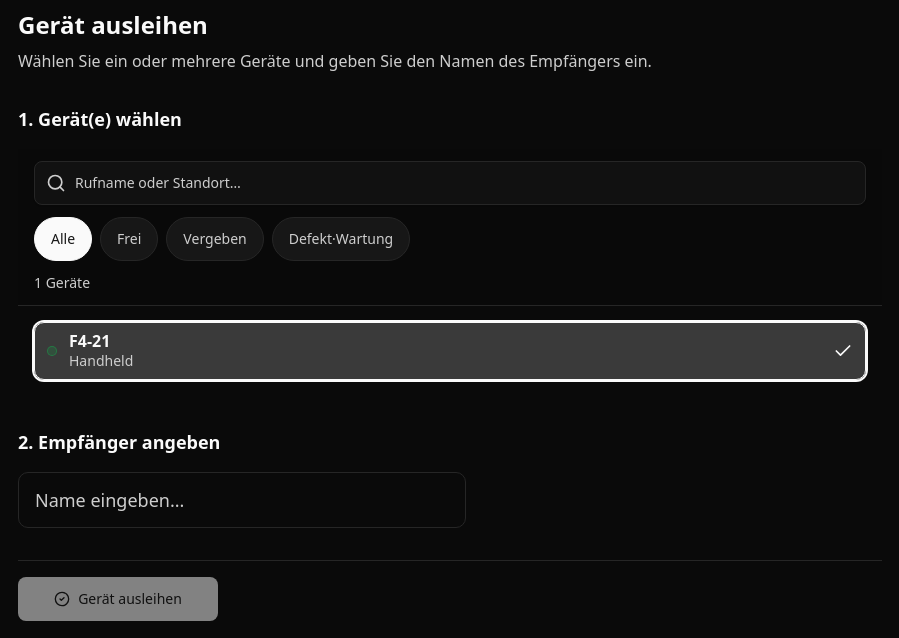
LoanPage Integration Tests › Button States › enables confirm button when device and borrower name are provided
Step 1. Type "Tim Schmidt" into the dropdown with placeholder "Name eingeben..." → [242, 500], box [18, 472, 466, 528]
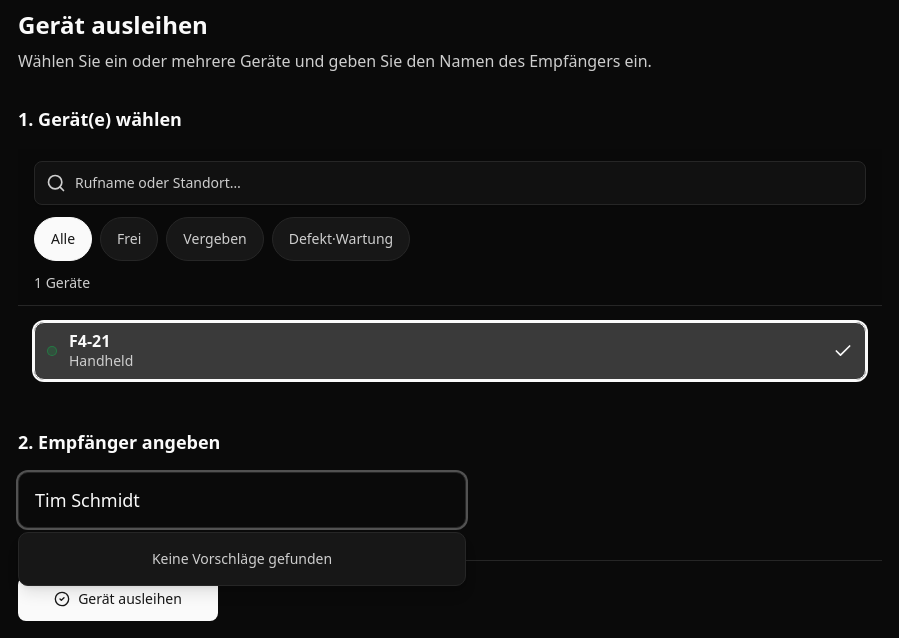
Expected: the button "Gerät ausleihen" is enabled, [18, 577, 218, 621]
